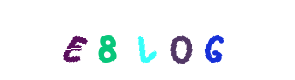8: (90, 0, 170, 80)
E: (67, 0, 147, 80)
G: (173, 0, 253, 80)
L: (107, 0, 187, 80)
O: (107, 0, 187, 80)
